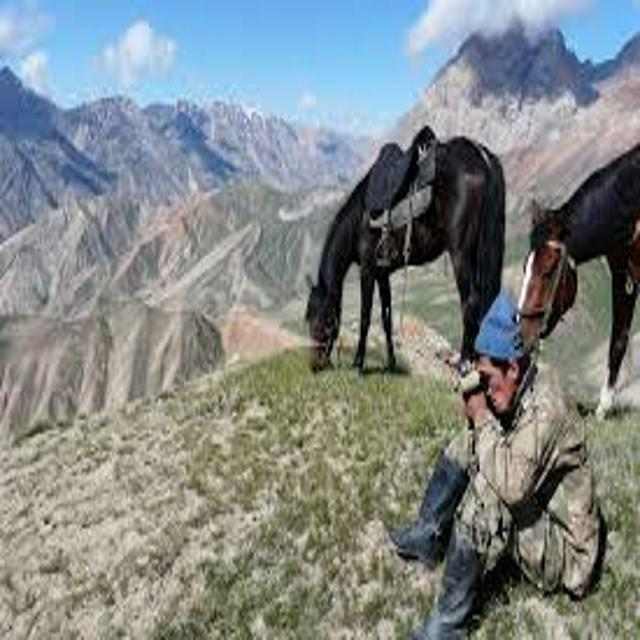poacher: (360, 270, 633, 640)
